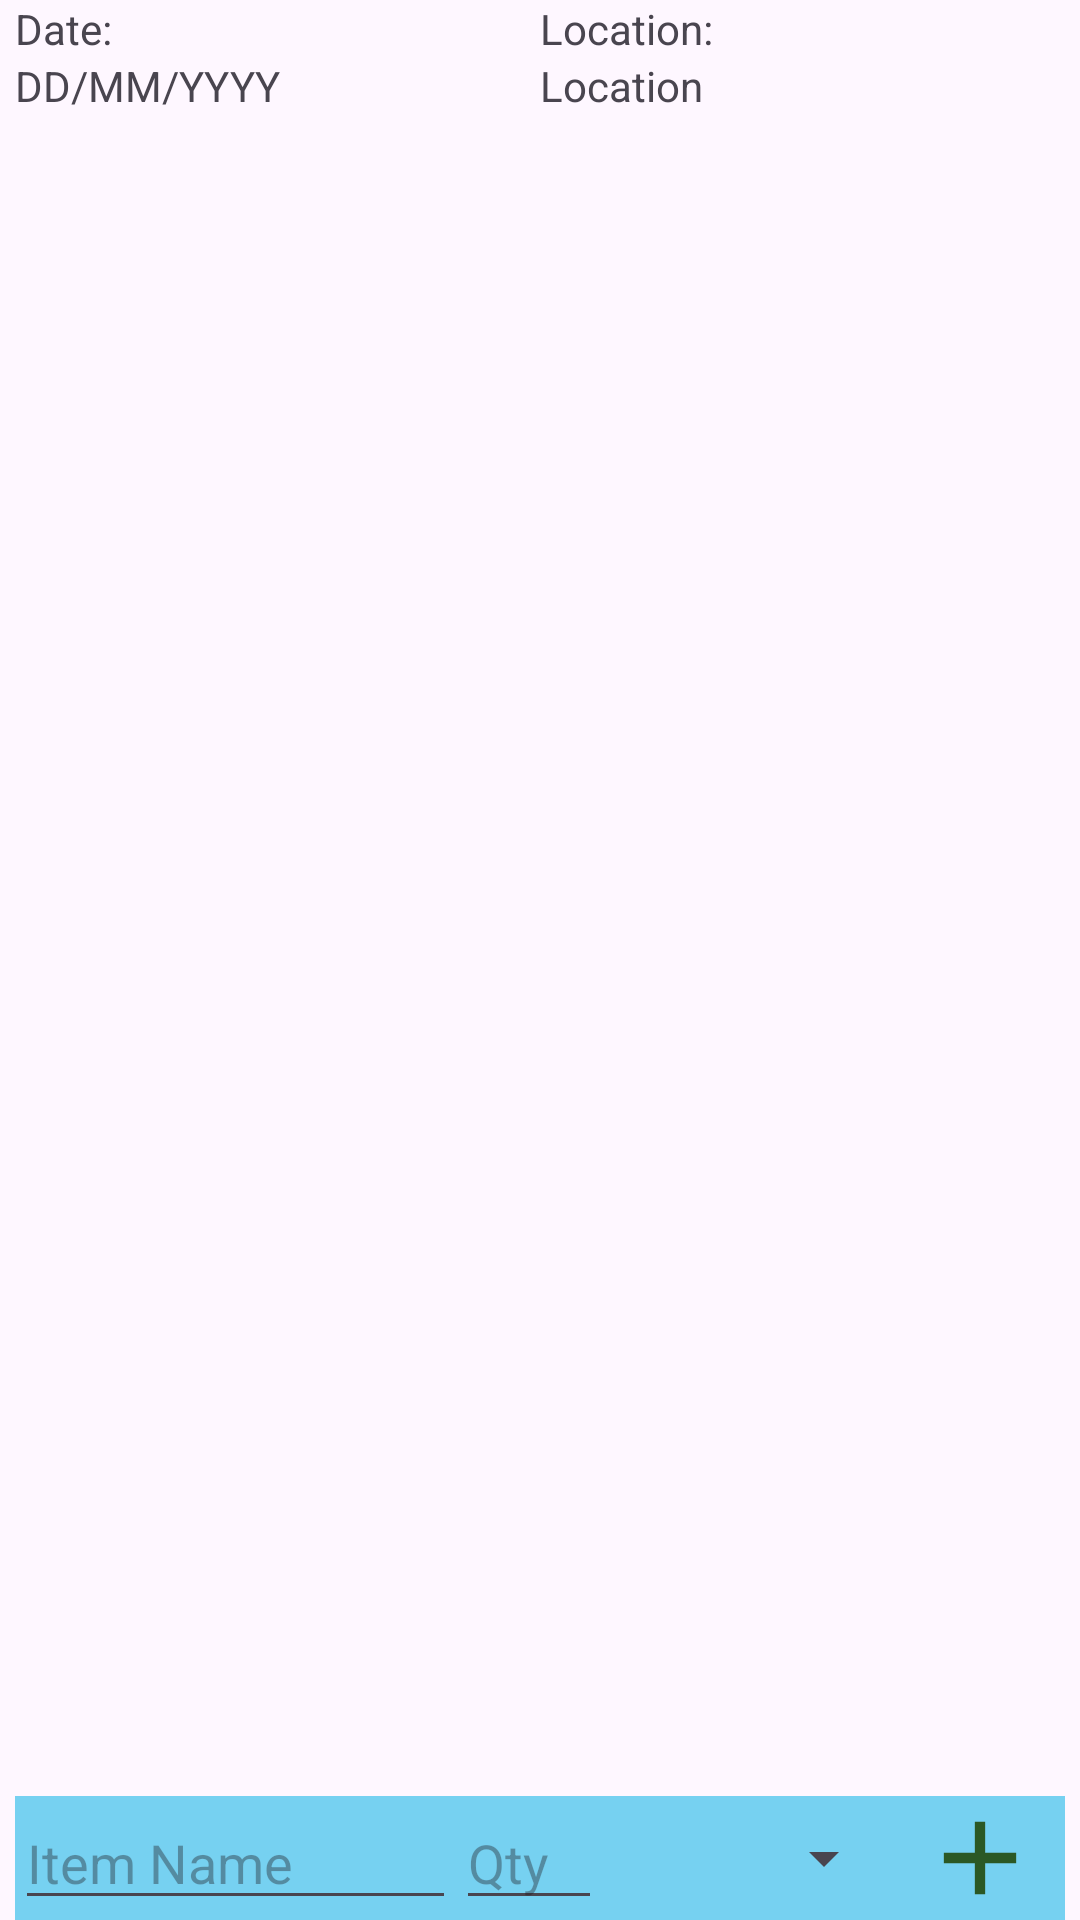

Icon bounding boxes for this 1080w x 1920h phone screenshot, format (x1, y1, x2, y2):
add: (943, 1821, 1017, 1895)
